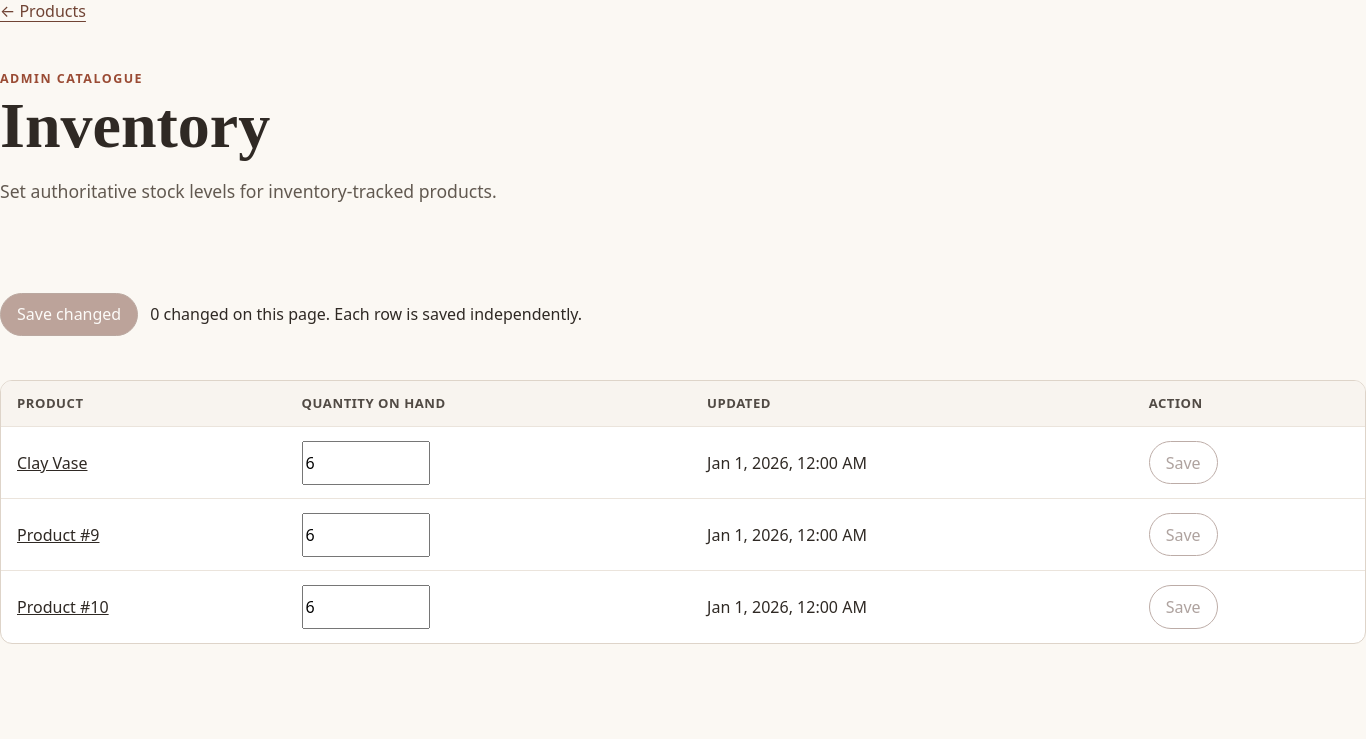
Test: admin commerce › saves only dirty rows and retains partial successes and retryable failures
Check: the button "Save changed" is disabled, box [0,293,138,336]
Replace the text in the number field named "Quantity for product 8" with "9": {"x": 366, "y": 462} [302,440,430,484]
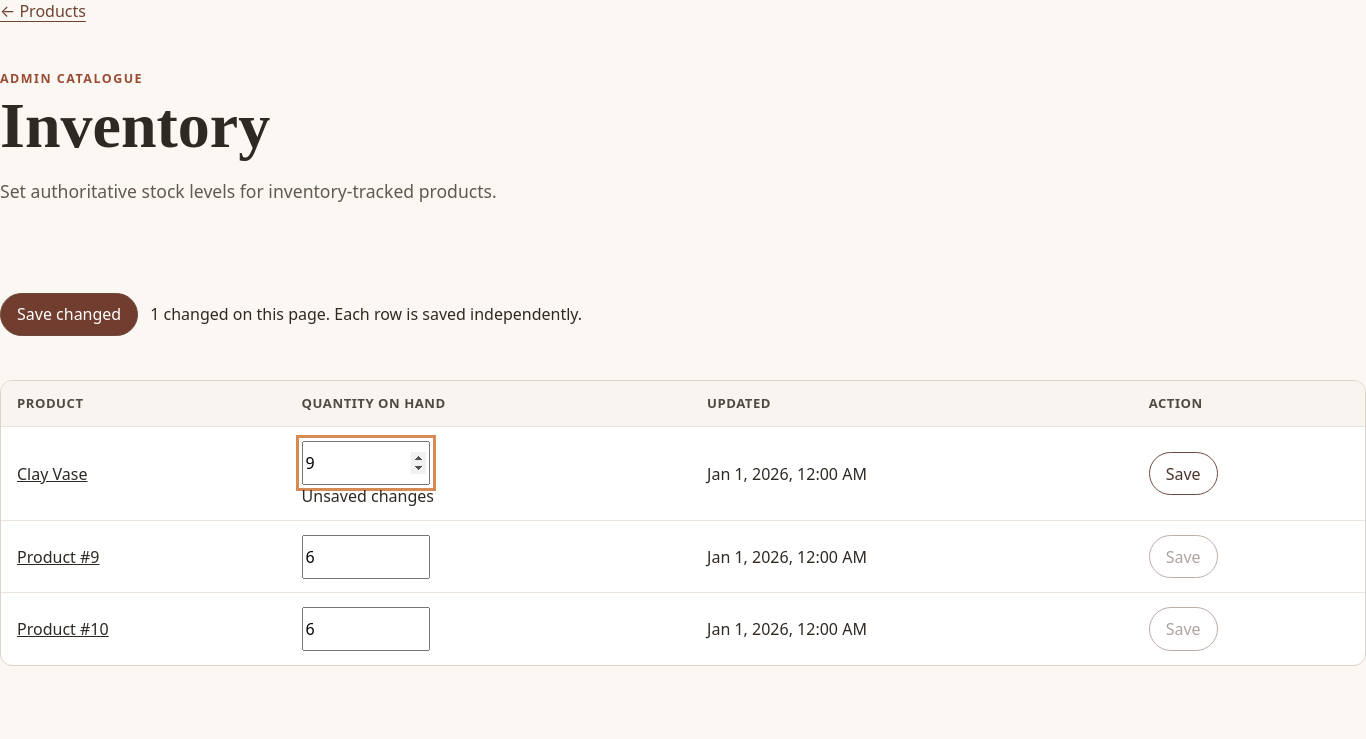
Replace the text in the number field named "Quantity for product 9" with "9": {"x": 366, "y": 557} [302,535,430,579]
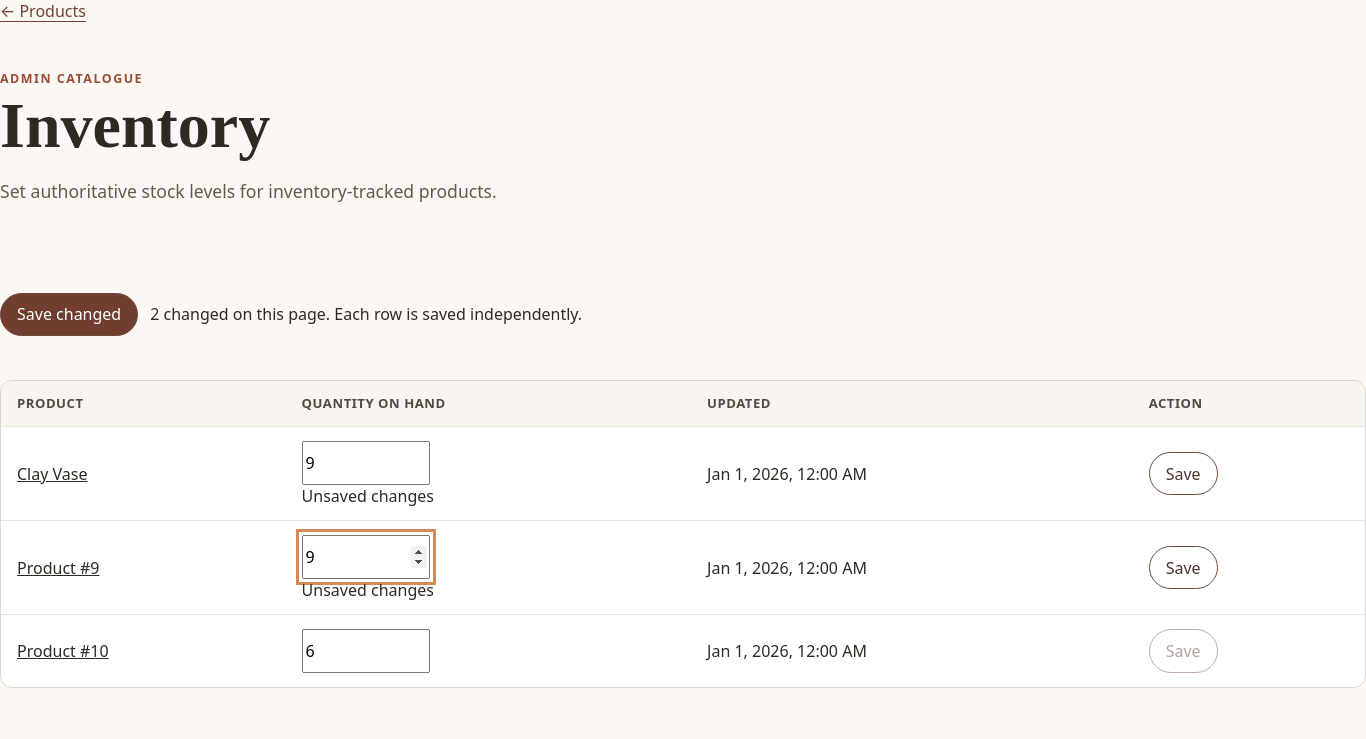
Check: the text "Unsaved changes" is shown 2 times, box [302,484,434,506]; [302,579,434,601]
Click the button "Save changed": {"x": 69, "y": 314} [0,293,138,336]
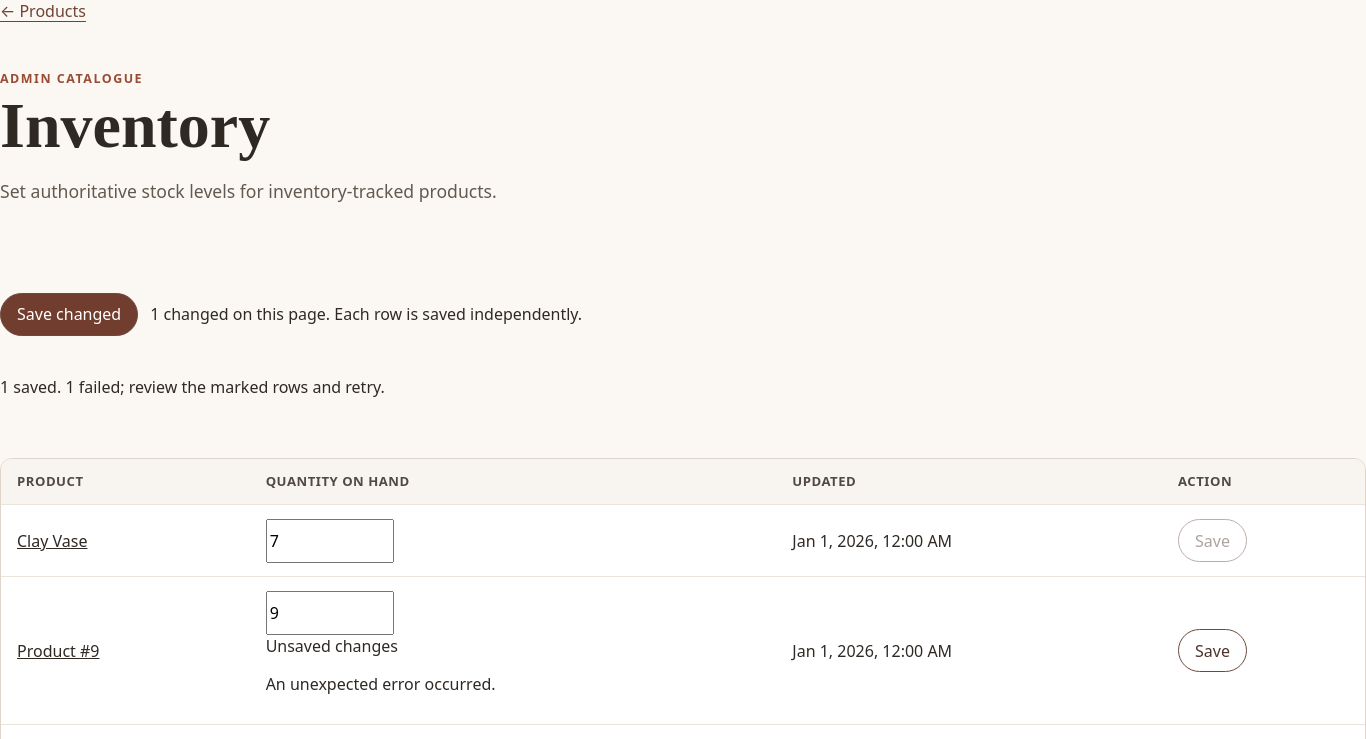
Check: the text "1 saved. 1 failed; review the marked rows and retry." is shown, box [0,376,385,398]
Check: the number field named "Quantity for product 8" holds "7", box [266,518,394,562]
Check: the text "Unsaved changes" is shown once, box [266,635,398,657]
Click the button "Save changed": {"x": 69, "y": 314} [0,293,138,336]
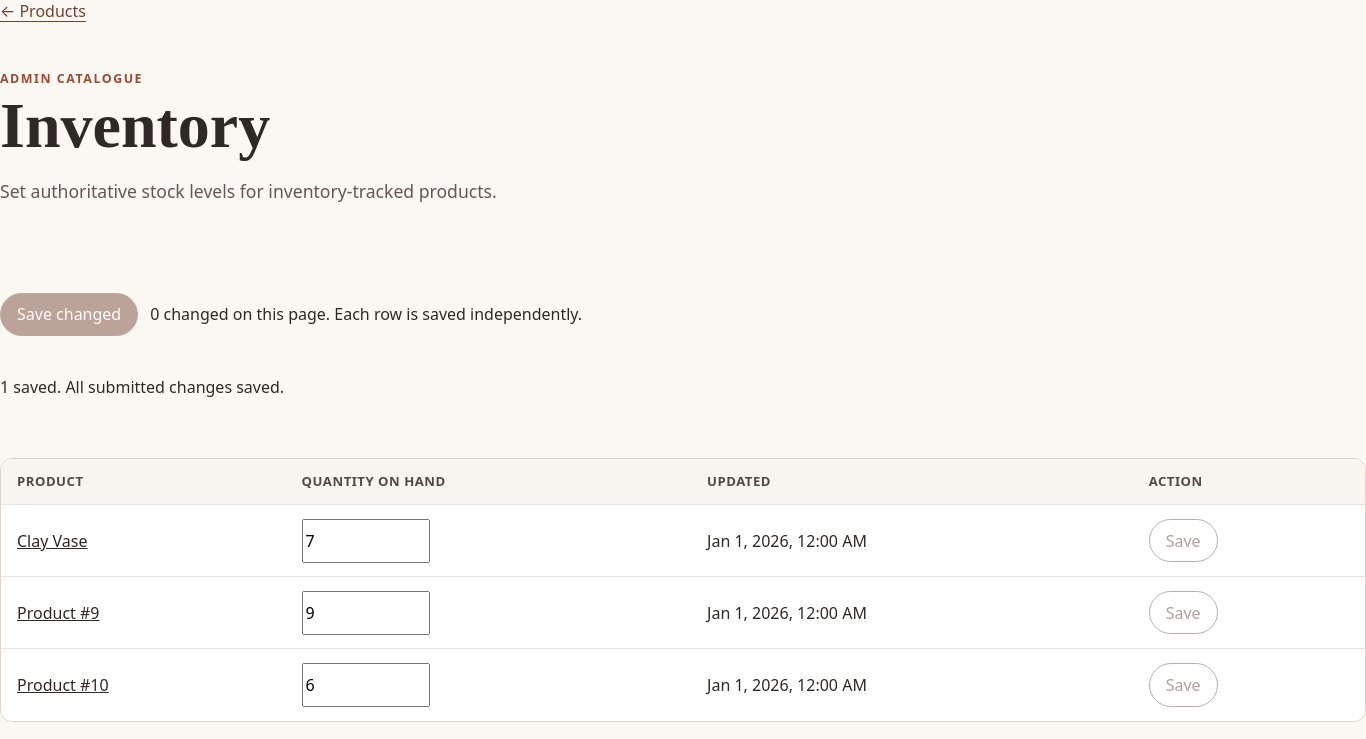
Check: the button "Save changed" is disabled, box [0,293,138,336]
Check: the text "Unsaved changes" is gone
